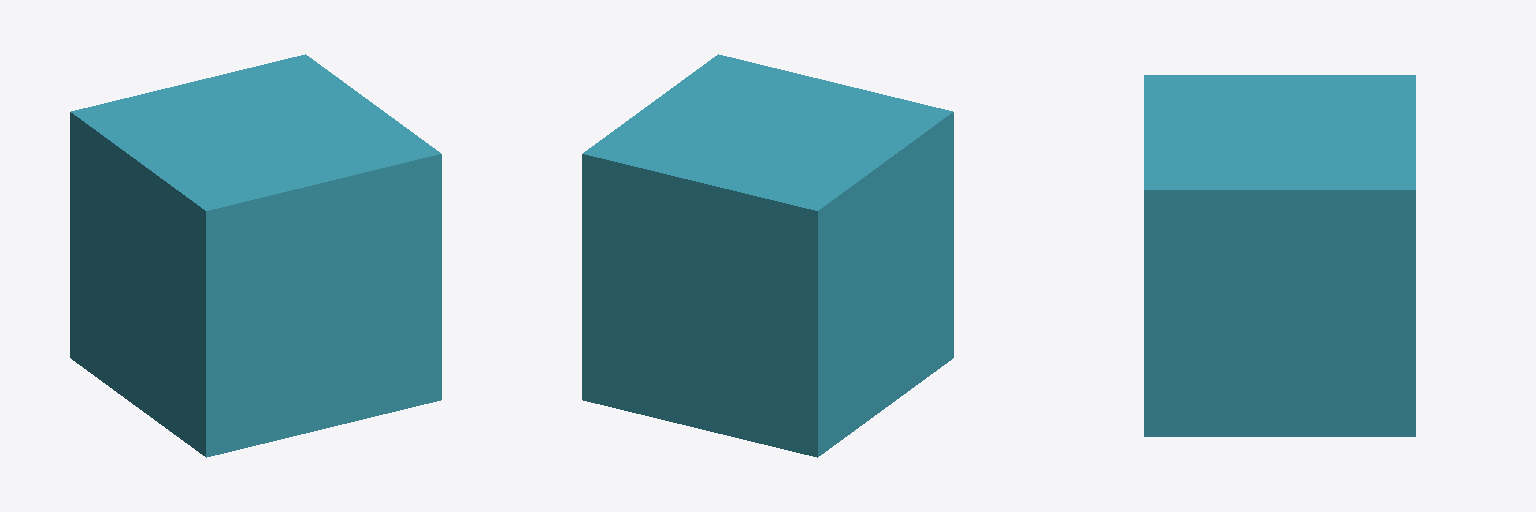
3 views of the same model, side by side, from view 1: azimuth 30°, elevation 25°; view 2: azimuth 150°, elevation 25°; view 3: azimuth 270°, elevation 25° (orthographic).
Parts seen in each view (by area): view 1: Floor_2; view 2: Floor_2; view 3: Floor_2.
Part boxes in pixels (left/top/right/bottom): Floor_2: left=70, top=54, right=441, bottom=457; Floor_2: left=582, top=54, right=953, bottom=457; Floor_2: left=1144, top=75, right=1415, bottom=436.
Bounding box in the file's own units: 10 × 10 × 10.
Materials: 1 (1 with a texture image).